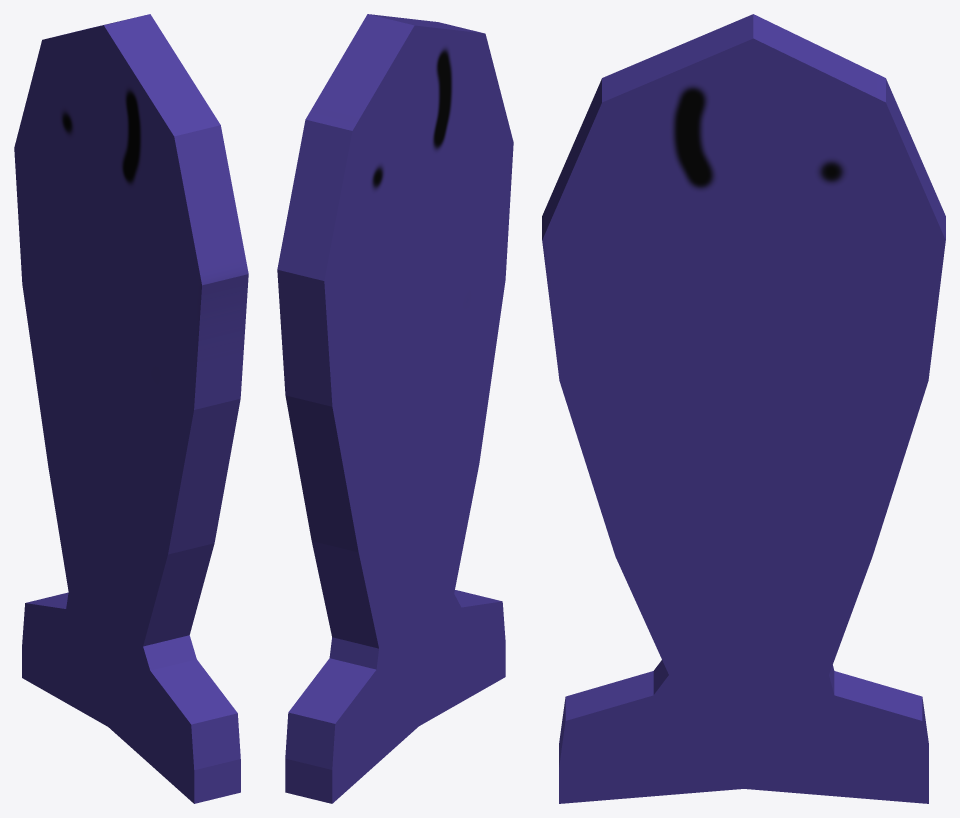
File: simple-fish.gltf
3 views of the same model, side by side, from view 1: azimuth 30°, elevation 25°; view 2: azimuth 150°, elevation 25°; view 3: azimuth 270°, elevation 25° (orthographic). The views are drawn at different scales.
Visible parts, largest first — view 1: Plane; view 2: Plane; view 3: Plane.
Part boxes in pixels (bbox=[...]): Plane: bbox=[14, 14, 248, 803]; Plane: bbox=[277, 14, 513, 803]; Plane: bbox=[542, 14, 945, 803].
Bounding box in the file's own units: 0.0663 × 0.9674 × 0.4623.
Materials: 1 (1 with a texture image).
